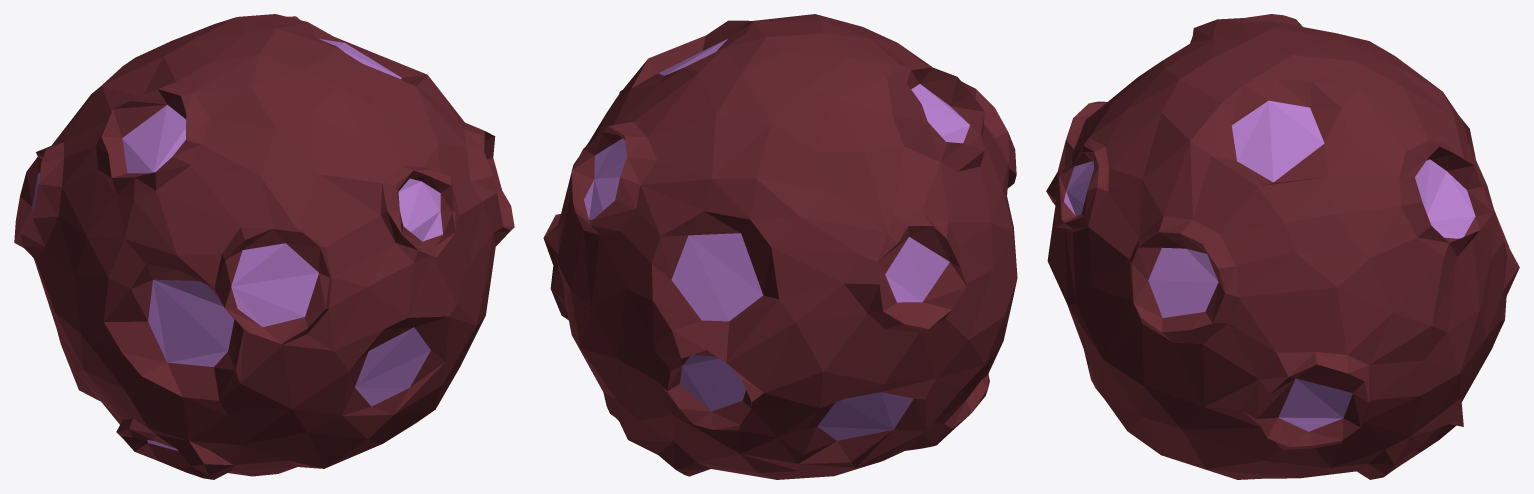
Rendered from eggOrb2.fbx.
The picture shows the model from 3 angles, left to right: view 1: azimuth 30°, elevation 25°; view 2: azimuth 150°, elevation 25°; view 3: azimuth 270°, elevation 25°; orthographic projection.
Parts seen in each view (by area): view 1: Planet; view 2: Planet; view 3: Planet.
Boxes of the visible parts, x1,y1,x2,y2 form: Planet: (14, 14, 514, 479); Planet: (543, 14, 1017, 479); Planet: (1046, 14, 1519, 479).
Size of the model in its own units: 627 by 592 by 609.
